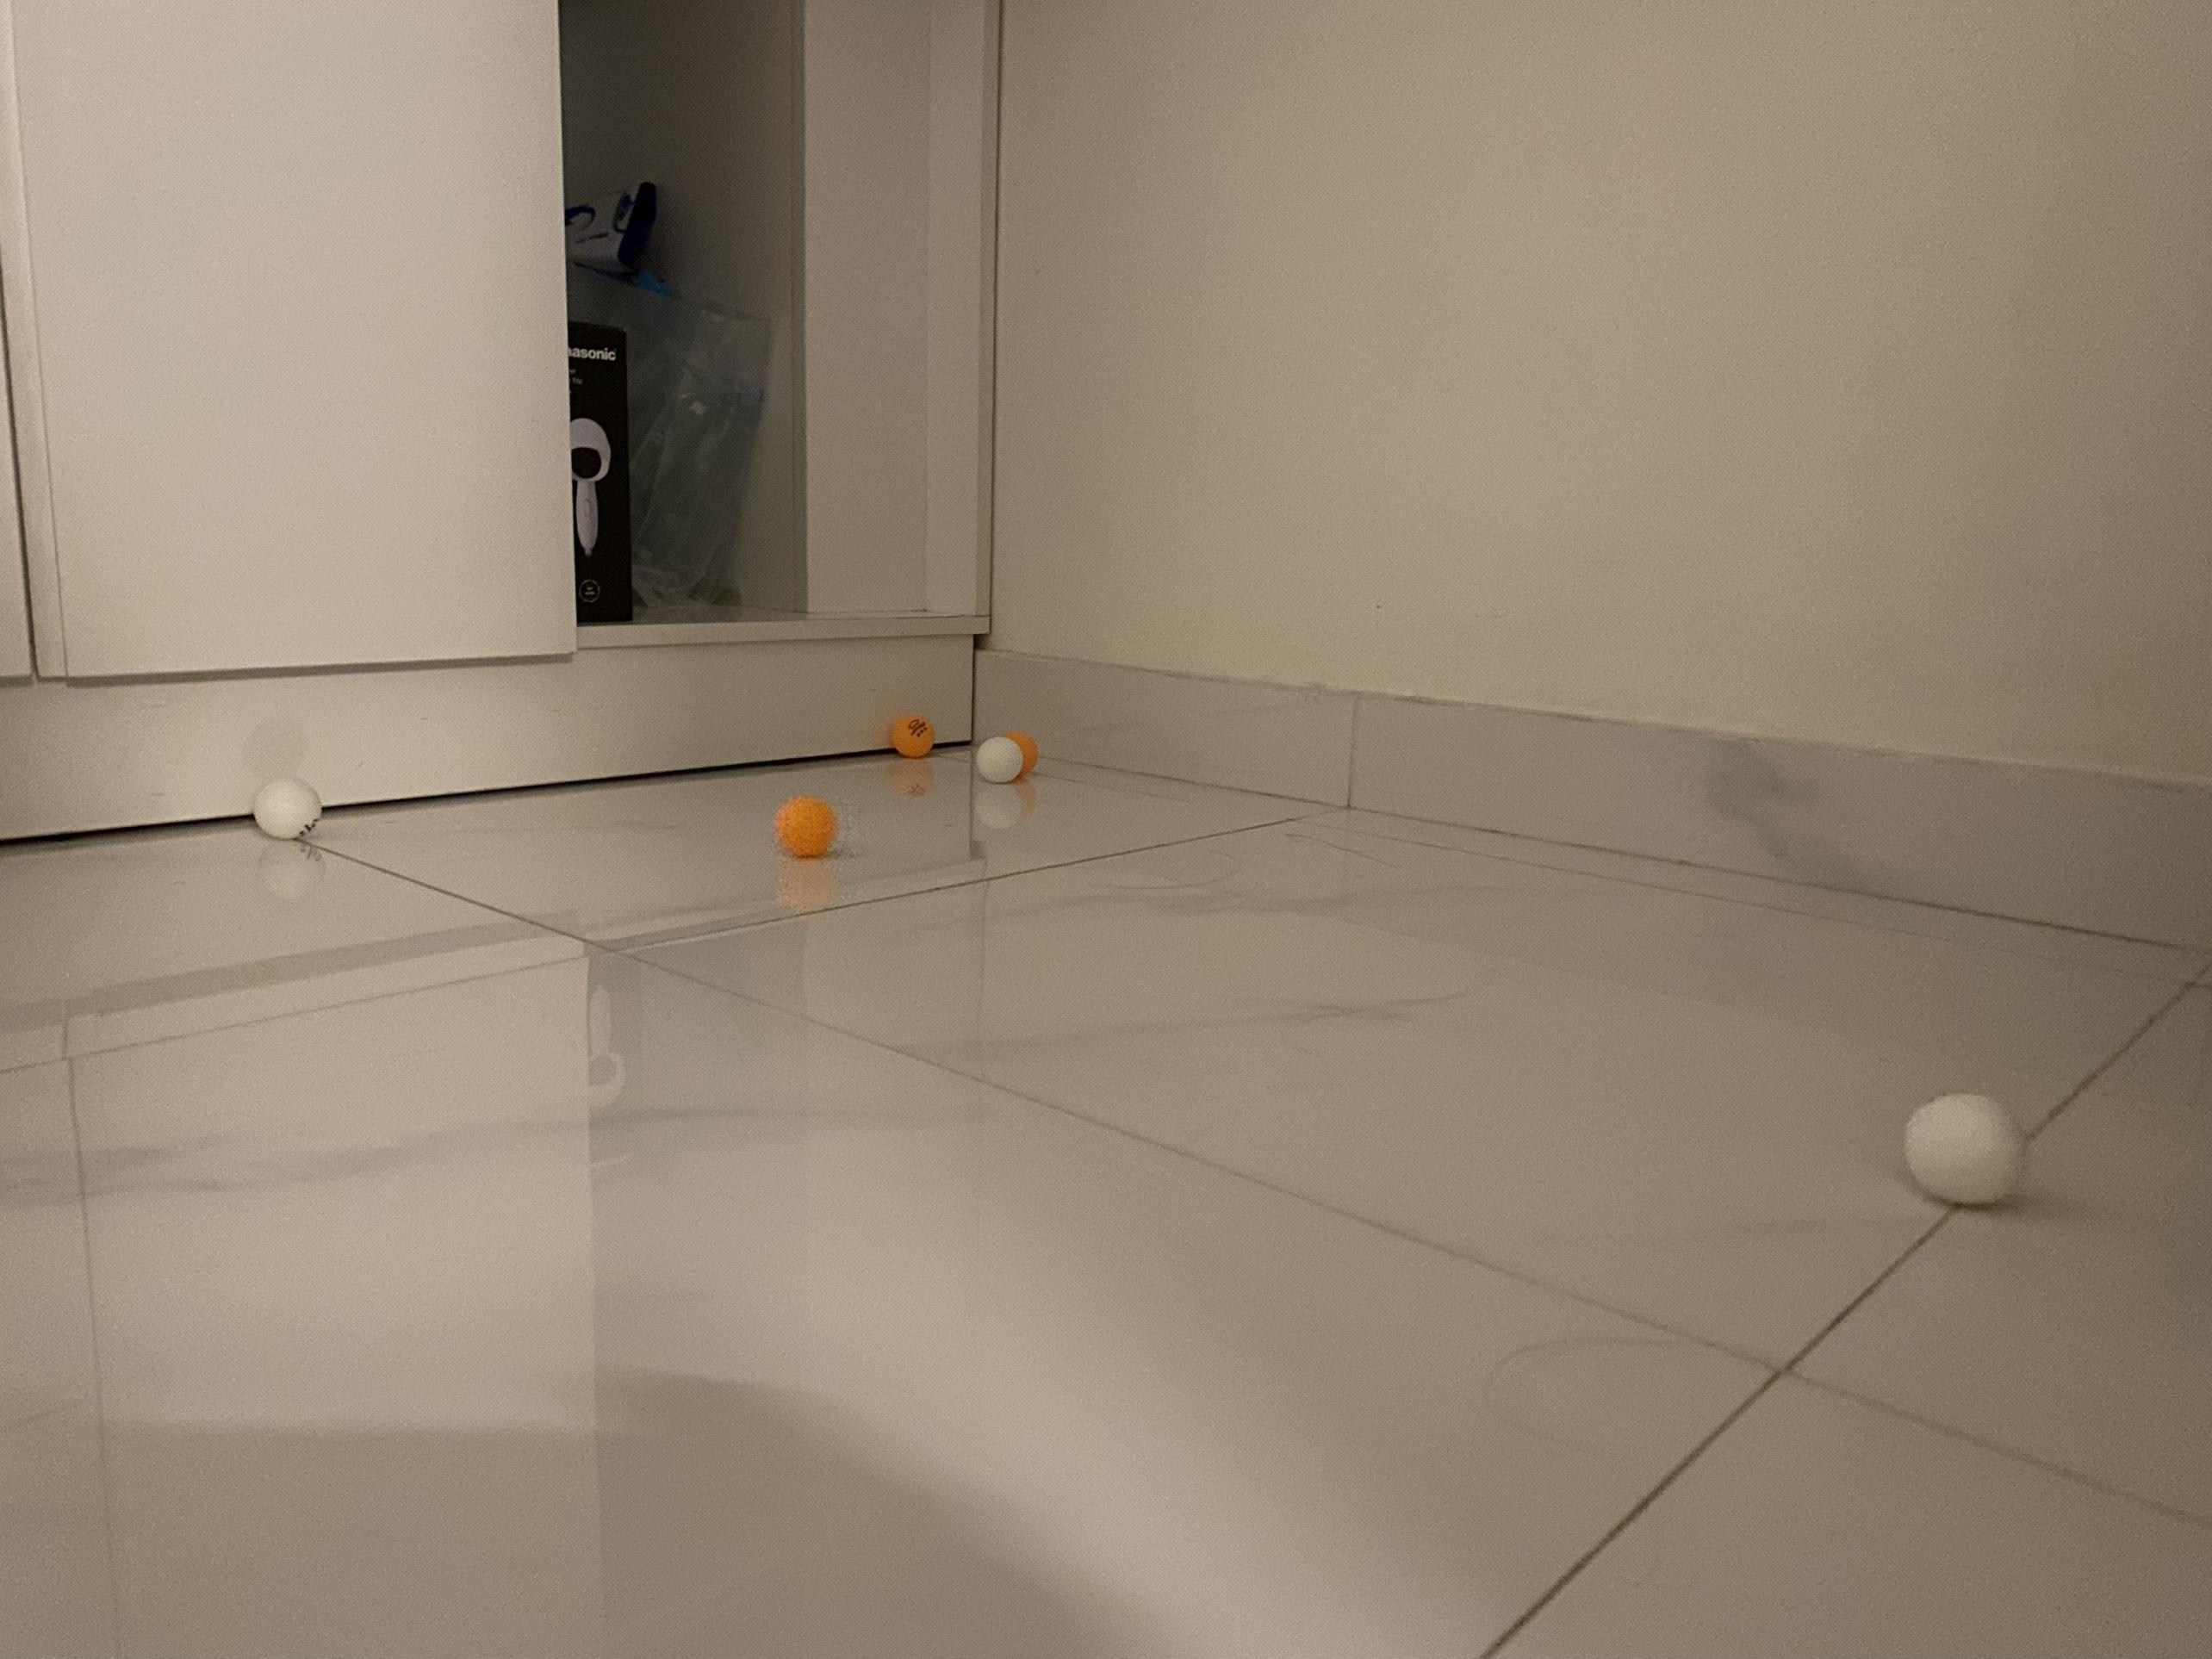oball: (773, 791, 841, 864), (996, 725, 1047, 779), (887, 711, 939, 760)
